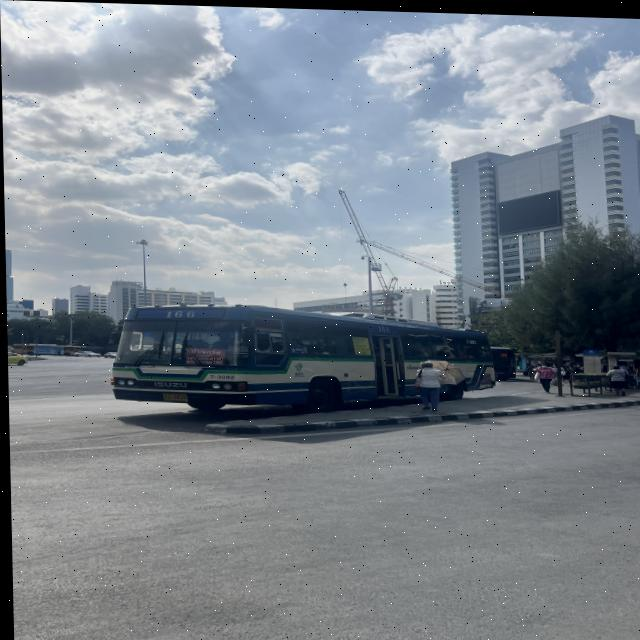BMTA-bus: (107, 297, 495, 422)
Bus-Line-Number: (162, 308, 197, 318)
Destination-Sign-Extra-Bus: (183, 346, 224, 365)
